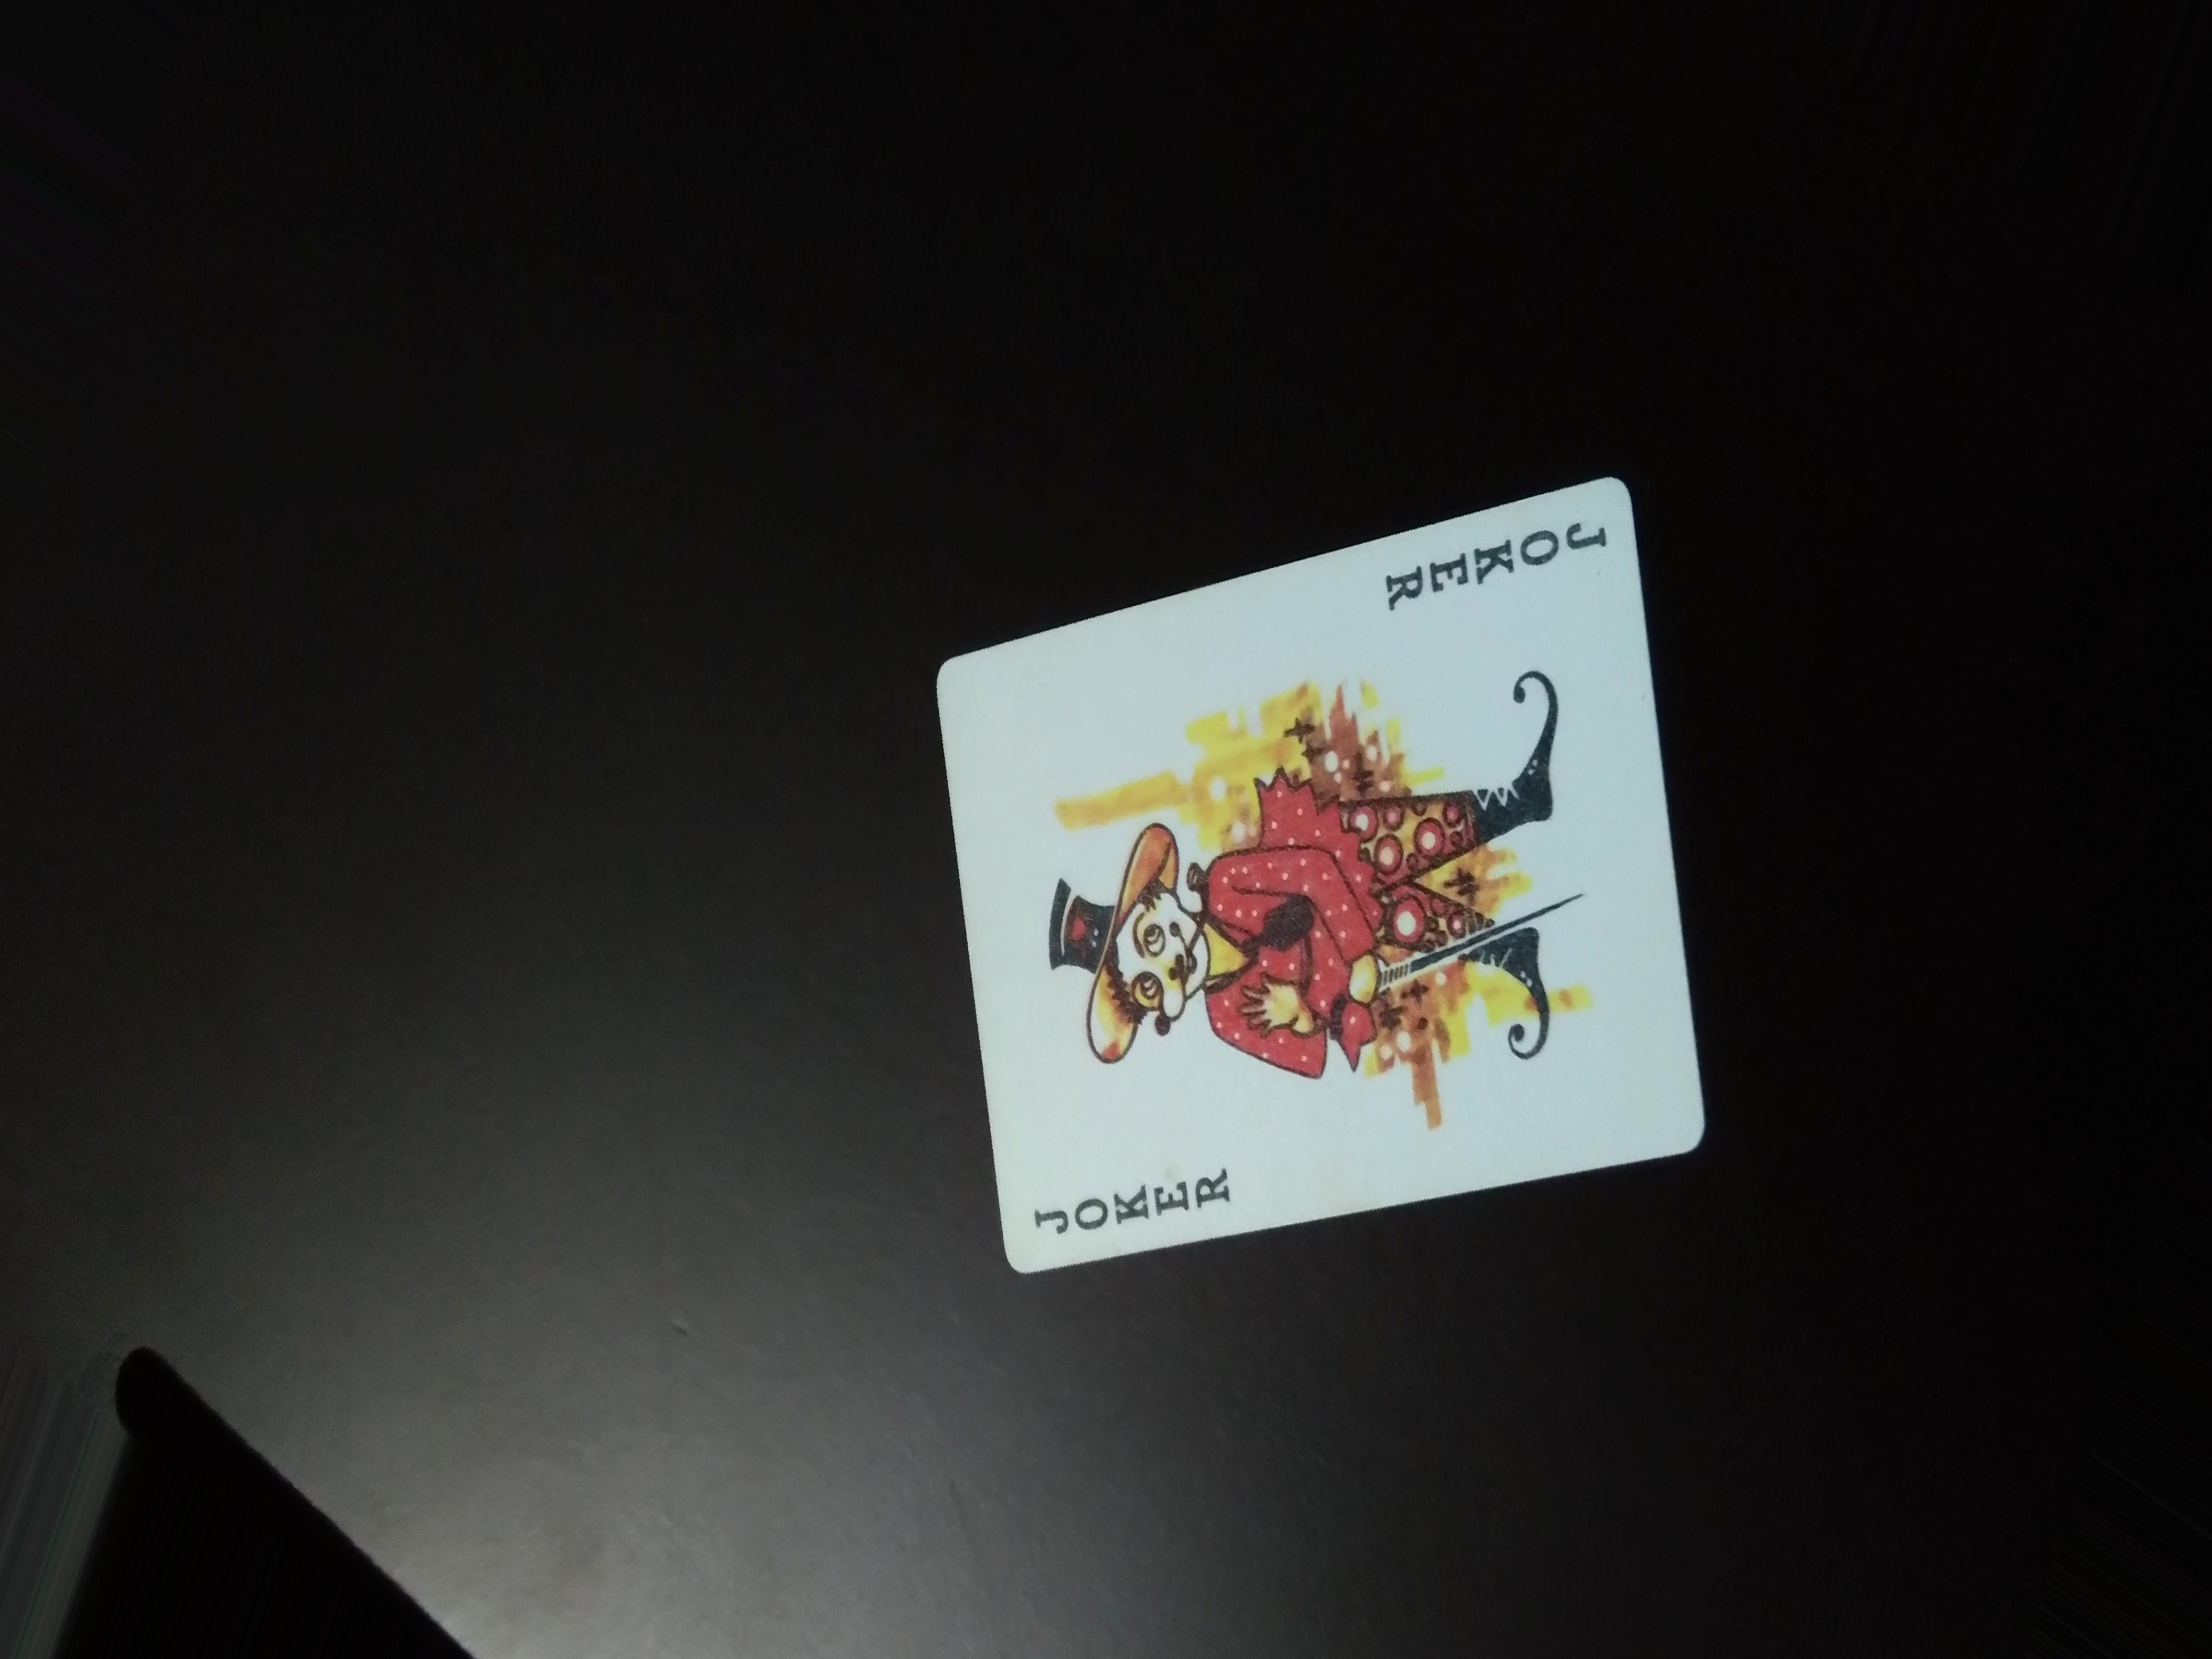JOKER: (1014, 1159, 1266, 1249)
